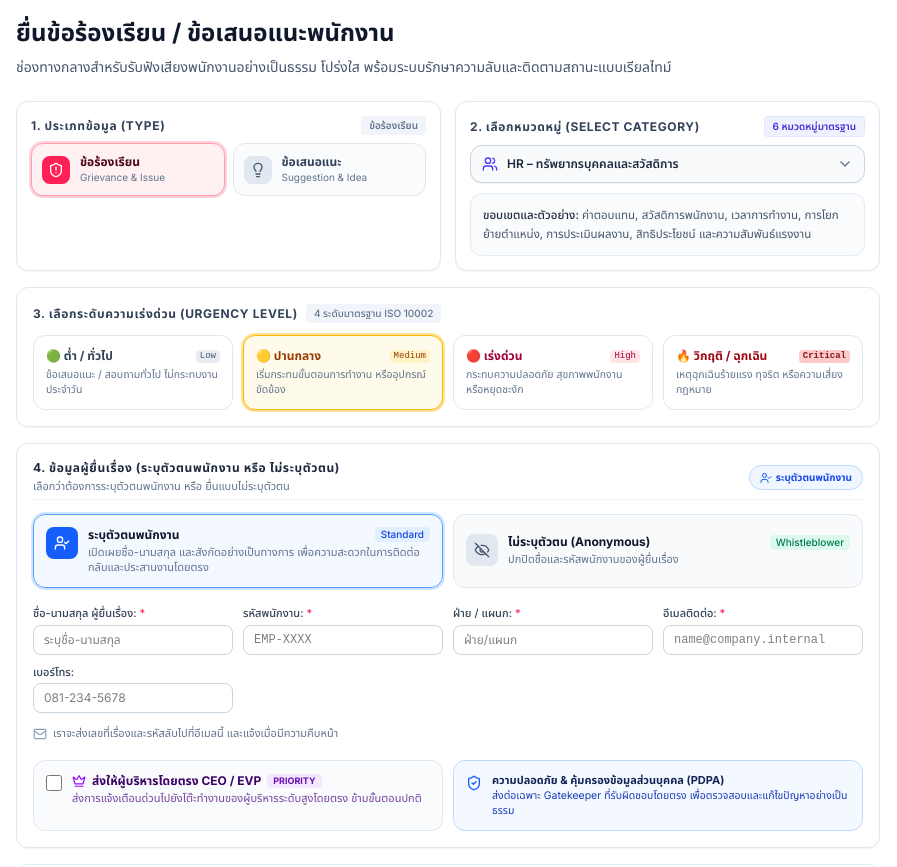
Test: PortalReport › explains what anonymous means on the portal
Step 1. Click the button "ไม่ระบุตัวตน (Anonymous)" → {"x": 658, "y": 551}, box [453, 514, 863, 588]
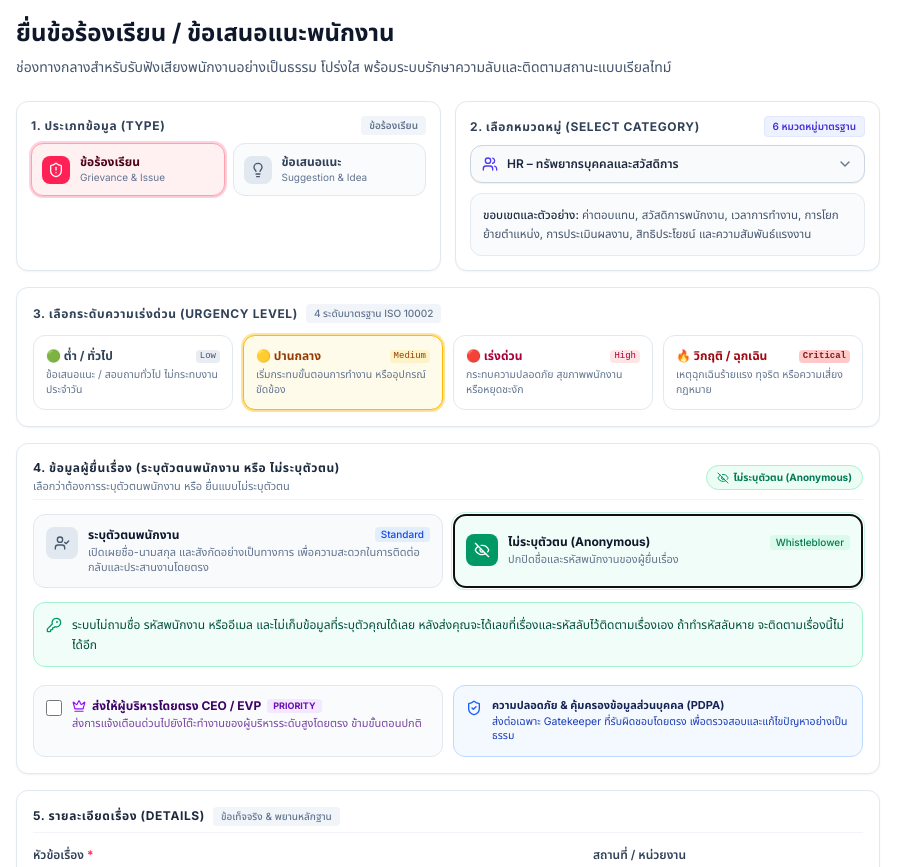
expect the text "ไม่เก็บข้อมูลที่ระบุตัวคุณได้เลย" is shown: met, box [72, 617, 844, 652]
